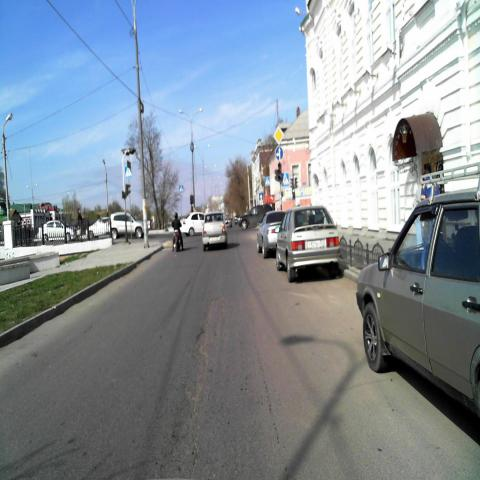4_1_5: (275, 146, 283, 160)
